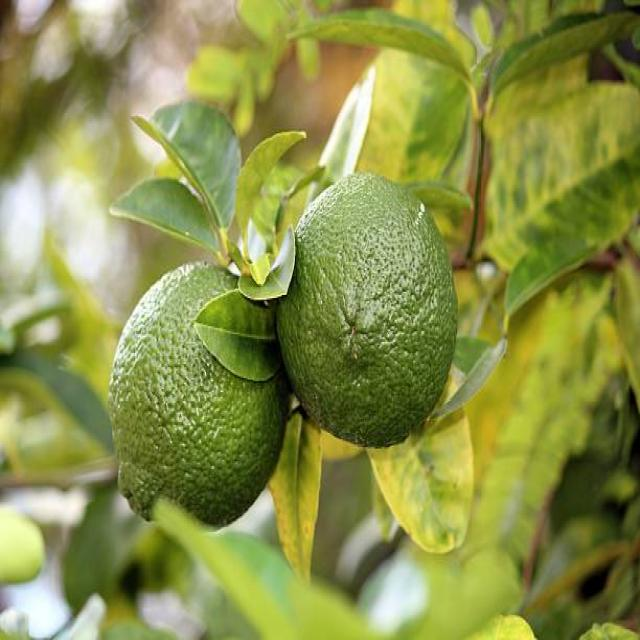Unripe: (276, 171, 455, 444), (108, 256, 284, 532)
